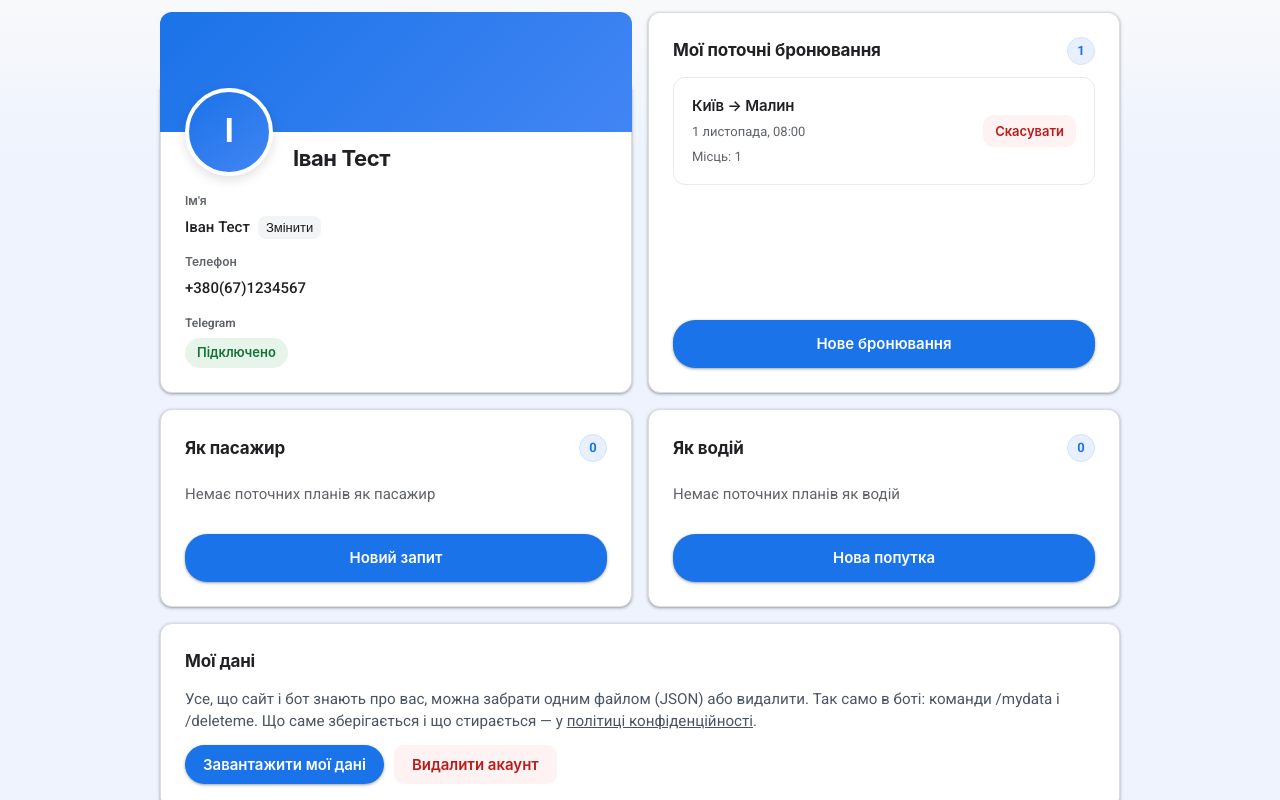
Scenario: UserPage: особисті дії з підписом › «Скасувати» бронювання шле DELETE /bookings/:id/by-user із заголовком X-Telegram-Login і без telegramUserId у тілі
Note: оголошень у профілі нема, тож єдина кнопка «Скасувати» — у бронювання
Click the button "Скасувати": (1030, 131) [983,115,1076,147]
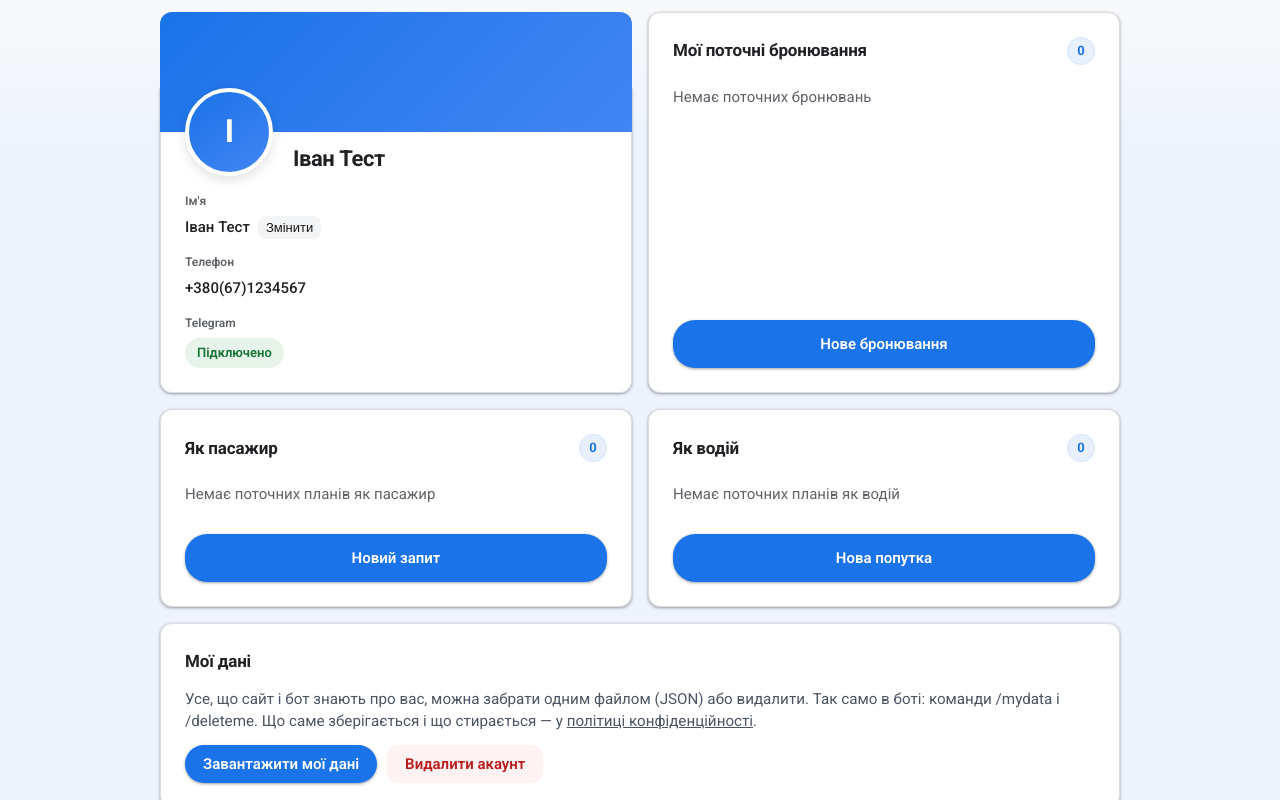
Now the button "Скасувати" is gone
